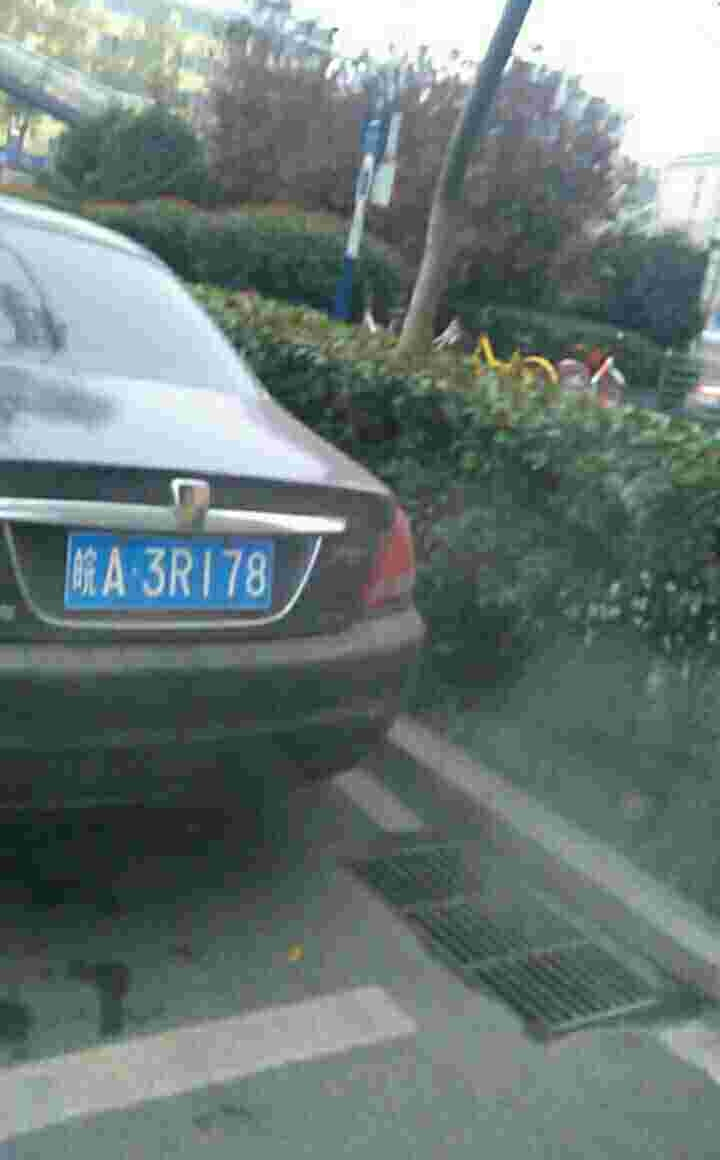license_plate: (63, 536, 279, 615)
